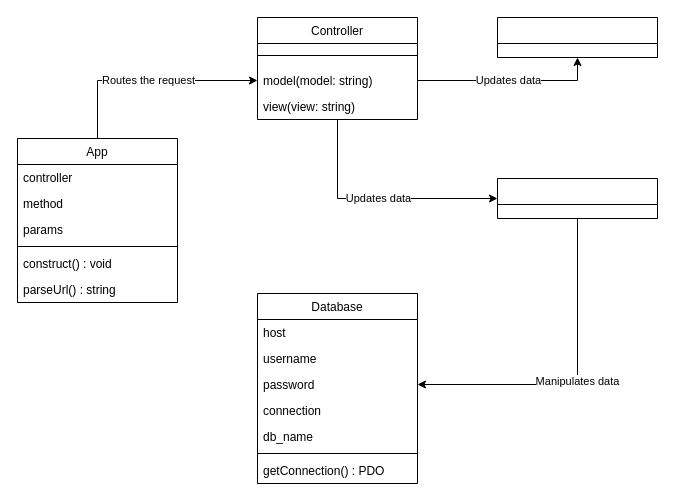
Some shapes in this 675 by 504 pixel diagram are drawn without their labels. Here are the shapes that lost their labels. From the top down, the centre of each, then its label:
At pixel 577 37: "View".
At pixel 577 198: "Model".
